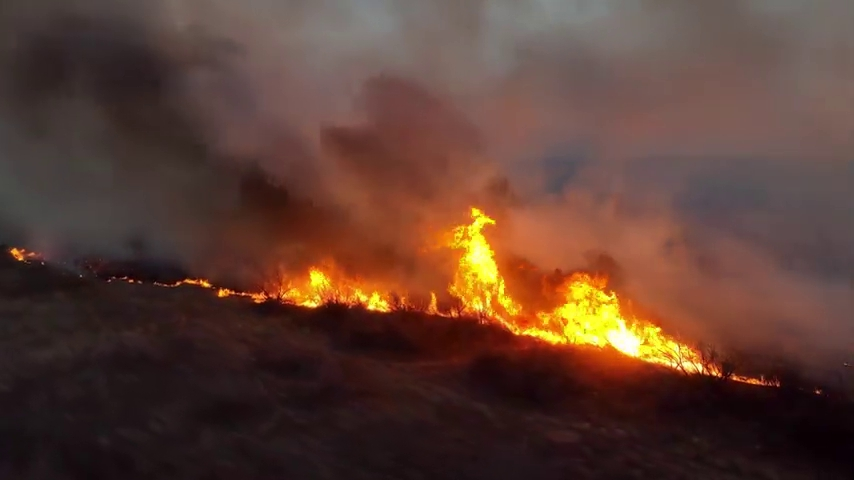forest_fire: (444, 207, 721, 374), (156, 266, 408, 311), (422, 294, 449, 314), (10, 248, 41, 260), (729, 375, 768, 384), (112, 276, 136, 281)
